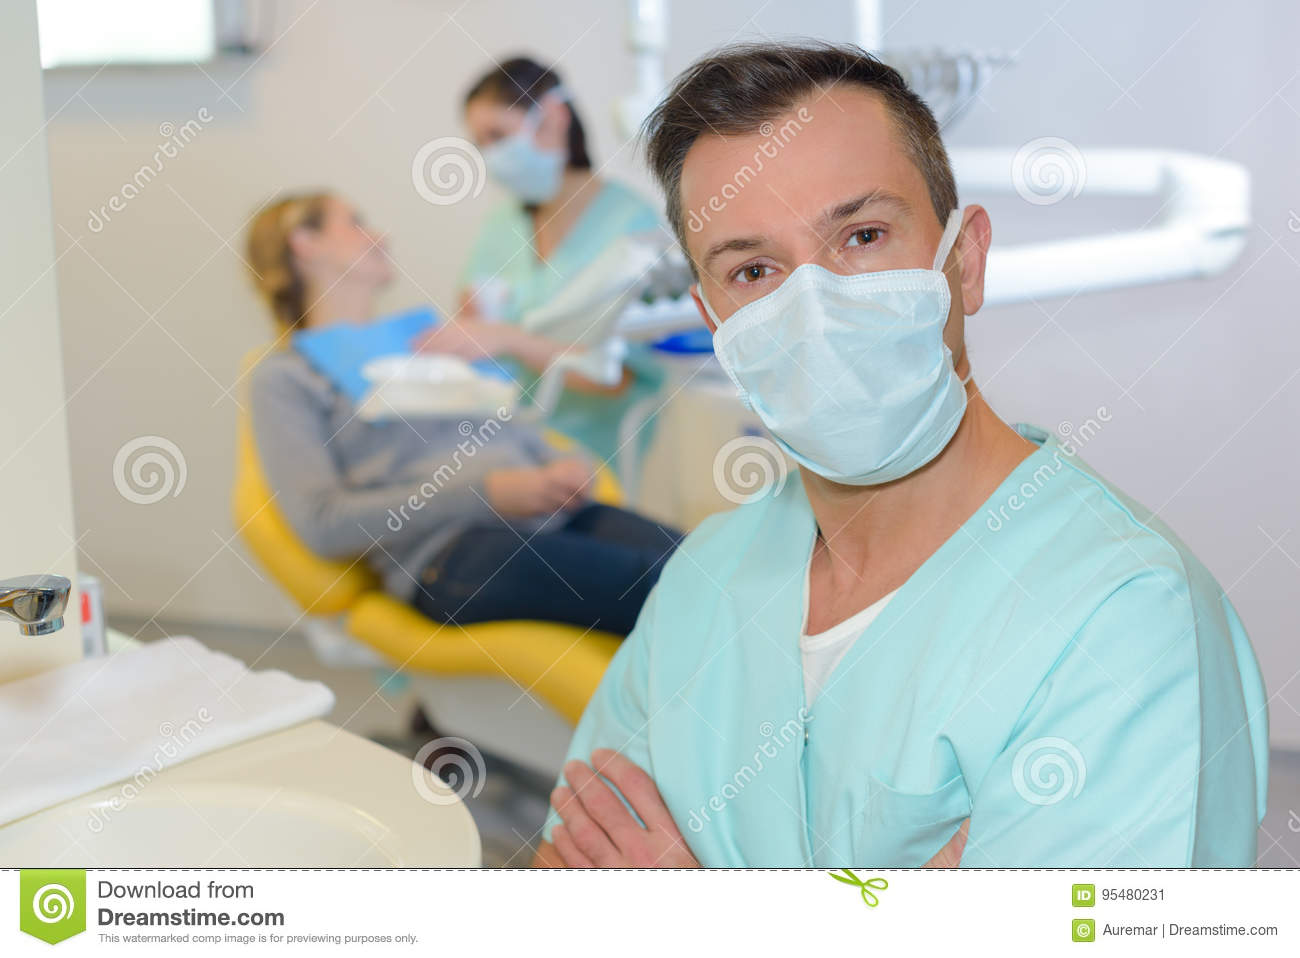mask: (700, 276, 983, 492)
